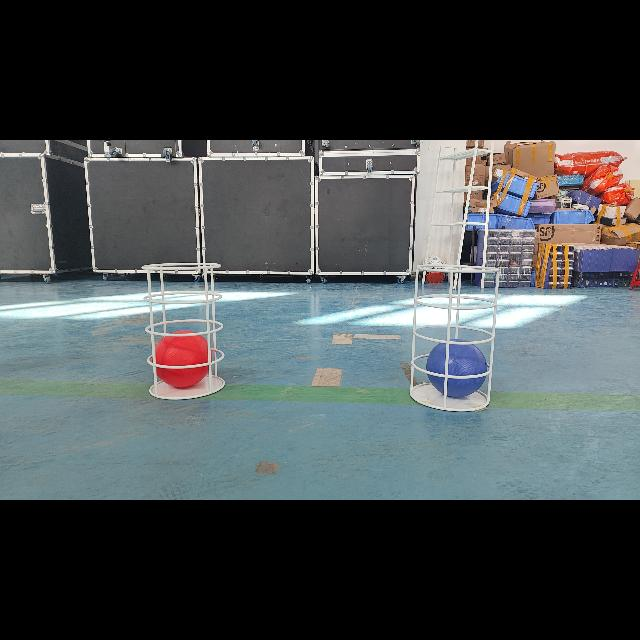B: (428, 338, 487, 398)
R: (152, 332, 214, 386)
S: (401, 262, 502, 412), (132, 257, 228, 401)
